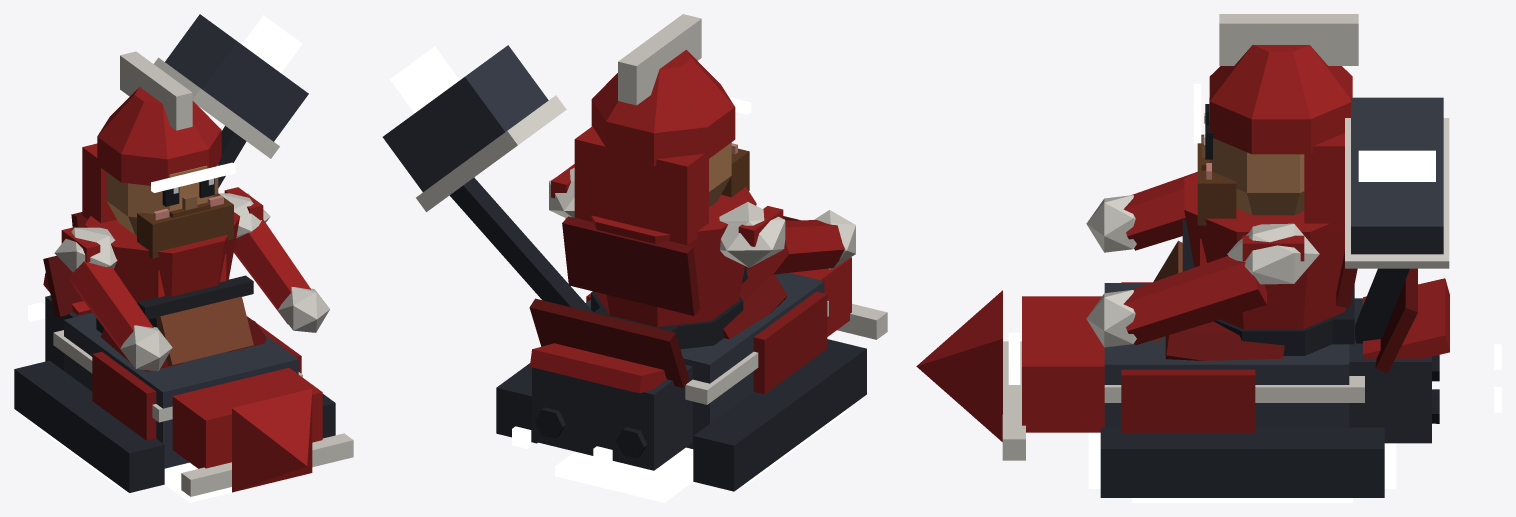
The model's file is hero_scott.glb.
3 renders of one model, left to right at view 1: azimuth 30°, elevation 25°; view 2: azimuth 150°, elevation 25°; view 3: azimuth 270°, elevation 25°, orthographic. The views are drawn at different scales.
Parts seen in each view (by area): view 1: body, arm_l, arm_r, glow; view 2: body, glow, arm_l; view 3: body, arm_r, glow, arm_l.
Boxes of the visible parts, bbox=[...] form: body: bbox=[14, 14, 353, 496]; arm_l: bbox=[69, 261, 172, 371]; arm_r: bbox=[233, 219, 329, 332]; glow: bbox=[28, 15, 302, 502]; body: bbox=[382, 14, 887, 491]; glow: bbox=[390, 46, 847, 502]; arm_l: bbox=[749, 210, 855, 274]; body: bbox=[916, 14, 1449, 497]; arm_r: bbox=[1086, 256, 1266, 347]; glow: bbox=[1008, 83, 1501, 502]; arm_l: bbox=[1086, 172, 1197, 252].
Bounding box in the file's own units: 1.04 × 1.26 × 1.51.
